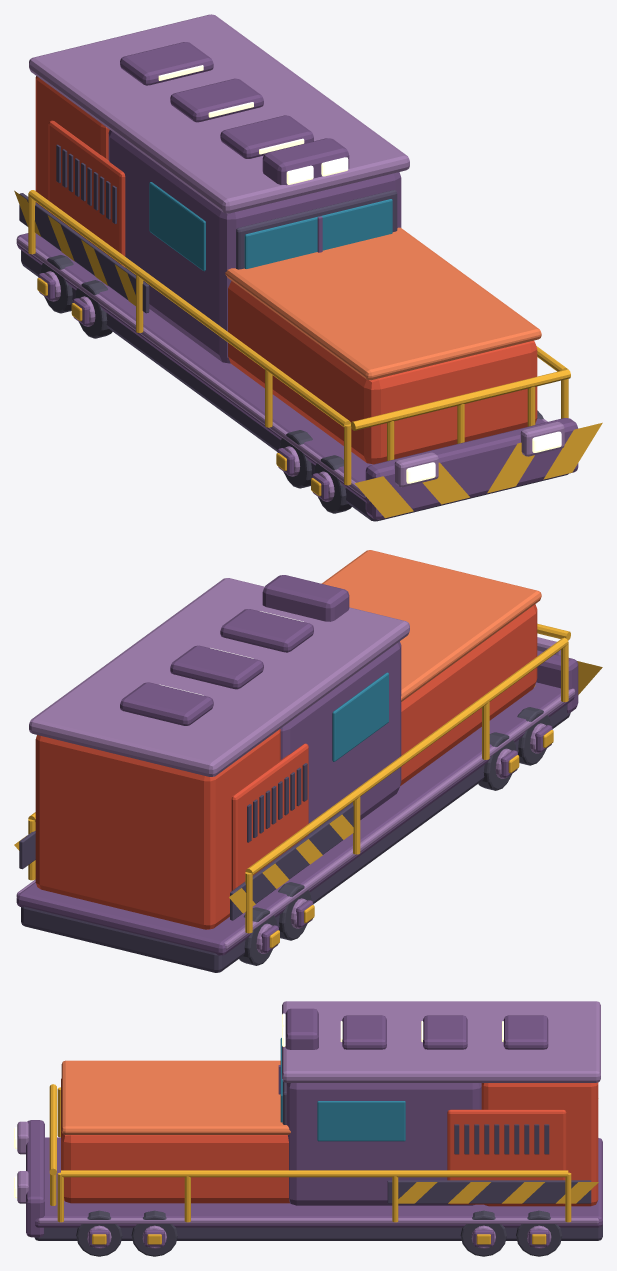
Rendered from locomotive.glb.
3 renders of one model, top to bottom at view 1: azimuth 30°, elevation 25°; view 2: azimuth 150°, elevation 25°; view 3: azimuth 270°, elevation 25°, orthographic. The views are drawn at different scales.
Parts seen in each view (by area): view 1: Purple chassis, Chassis trim, Orange hood, Hood top plate, Diagonal safety stripe, Heavy underframe, Blue windshield, Wheel, Headlamp, Roof glow; view 2: Orange hood, Purple chassis, Chassis trim, Hood top plate, Heavy underframe, Diagonal safety stripe, Wheel, Blue windshield; view 3: Purple chassis, Orange hood, Chassis trim, Hood top plate, Heavy underframe, Diagonal safety stripe, Wheel, Blue windshield.
Boxes of the visible parts, x1,y1,x2,y2 form: Purple chassis: (16, 42, 578, 519); Chassis trim: (16, 14, 564, 501); Orange hood: (35, 76, 537, 464); Hood top plate: (225, 227, 541, 380); Diagonal safety stripe: (14, 190, 602, 518); Heavy underframe: (19, 144, 568, 521); Blue windshield: (149, 182, 392, 271); Wheel: (40, 255, 543, 513); Headlamp: (286, 157, 561, 483); Roof glow: (158, 65, 304, 154); Orange hood: (35, 604, 537, 929); Purple chassis: (16, 575, 578, 955); Chassis trim: (16, 578, 575, 953); Hood top plate: (322, 550, 541, 701); Heavy underframe: (19, 704, 570, 972); Diagonal safety stripe: (14, 623, 602, 948); Wheel: (239, 707, 550, 965); Blue windshield: (332, 672, 388, 761); Purple chassis: (26, 1008, 602, 1246); Orange hood: (61, 1078, 598, 1206); Chassis trim: (17, 1001, 600, 1248); Hood top plate: (61, 1060, 290, 1134); Heavy underframe: (34, 1080, 602, 1240); Diagonal safety stripe: (49, 1084, 598, 1244); Wheel: (76, 1210, 562, 1256); Blue windshield: (280, 1038, 405, 1141).
Bounding box in the file's own units: 3 × 2.81 × 7.66.
